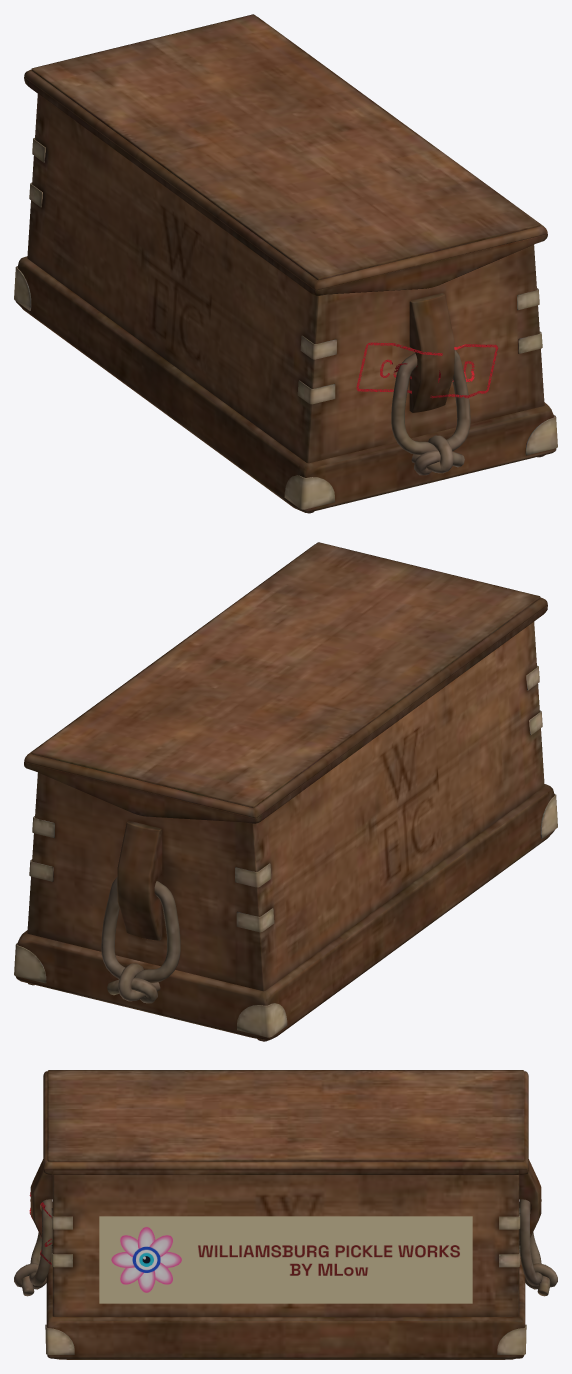
Rendered from nyb_treebrooklyn_crate.glb.
3 renders of one model, top to bottom at view 1: azimuth 30°, elevation 25°; view 2: azimuth 150°, elevation 25°; view 3: azimuth 270°, elevation 25°, orthographic. The views are drawn at different scales.
Visible parts, largest first — view 1: wooden_crate_02_crate, stk_counted.png; view 2: wooden_crate_02_crate; view 3: wooden_crate_02_crate, stk_lbl_5003214016.png.
Part boxes in pixels (box(x1,y1,x2,y2)): wooden_crate_02_crate: box(14, 14, 557, 513); stk_counted.png: box(356, 342, 498, 398); wooden_crate_02_crate: box(14, 542, 557, 1041); wooden_crate_02_crate: box(14, 1070, 557, 1359); stk_lbl_5003214016.png: box(99, 1216, 472, 1303).
Bounding box in the file's own units: 0.5291 × 0.464 × 1.17.
Materials: 3 (3 with a texture image).
